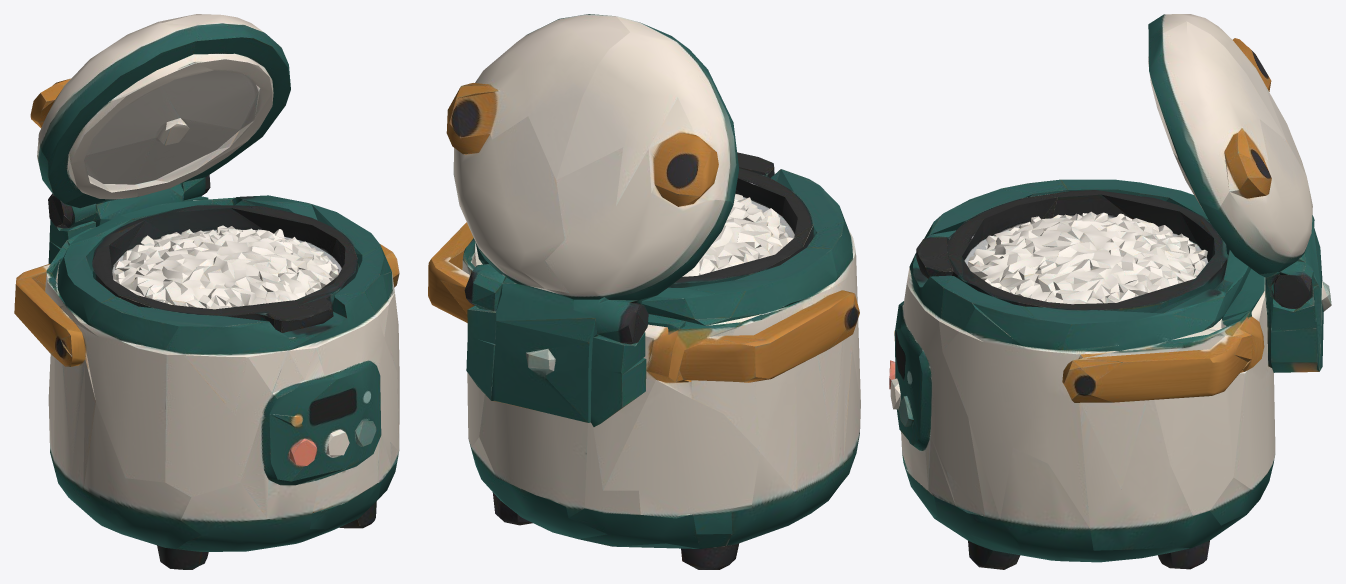
File: rounded-restaurant-rice-cooker-open-full.glb
3 views of the same model, side by side, from view 1: azimuth 30°, elevation 25°; view 2: azimuth 150°, elevation 25°; view 3: azimuth 270°, elevation 25° (orthographic). The views are drawn at different scales.
Visible parts, largest first — view 1: Mesh_0; view 2: Mesh_0; view 3: Mesh_0.
Boxes of the visible parts, bbox=[...] form: Mesh_0: bbox=[14, 14, 399, 569]; Mesh_0: bbox=[428, 14, 860, 569]; Mesh_0: bbox=[889, 14, 1331, 569].
Size of the model in its own units: 0.4196 by 0.55 by 0.4512.
Materials: 1 (1 with a texture image).
